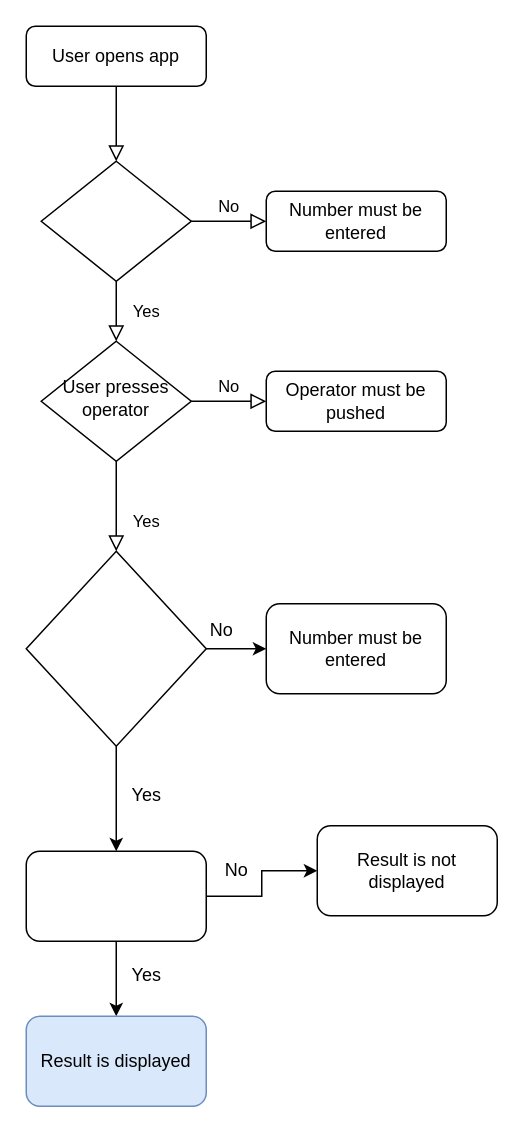
Image size: 524x1133. Some labels were removed from this diagram. Here are the shapes that lost their labels. From the top down, the centre of each, then its label:
the point at 115,220: User enters number
the point at 115,648: User enters next number in problem
the point at 115,895: User presses =
